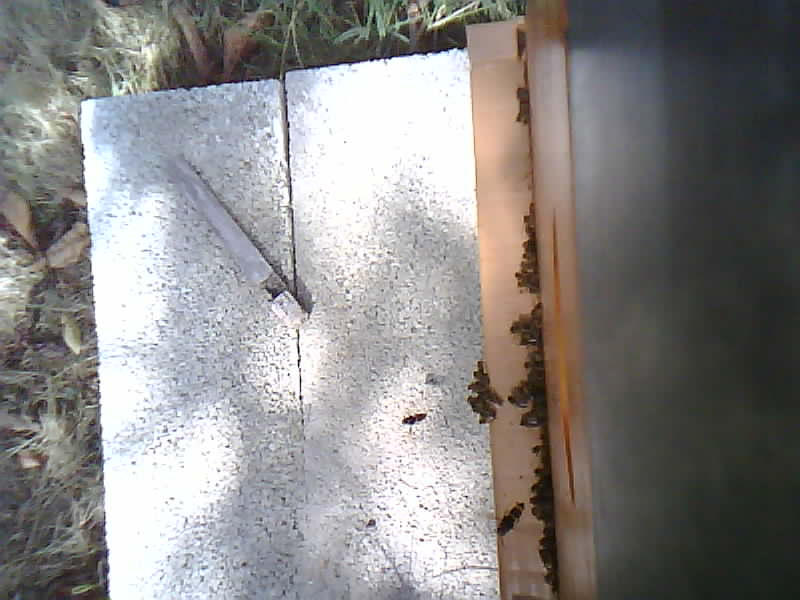bee: (530, 438, 558, 577), (516, 354, 548, 429), (468, 357, 500, 422), (515, 206, 540, 278), (514, 81, 533, 129), (518, 315, 545, 348)
hornet: (492, 498, 528, 542)
